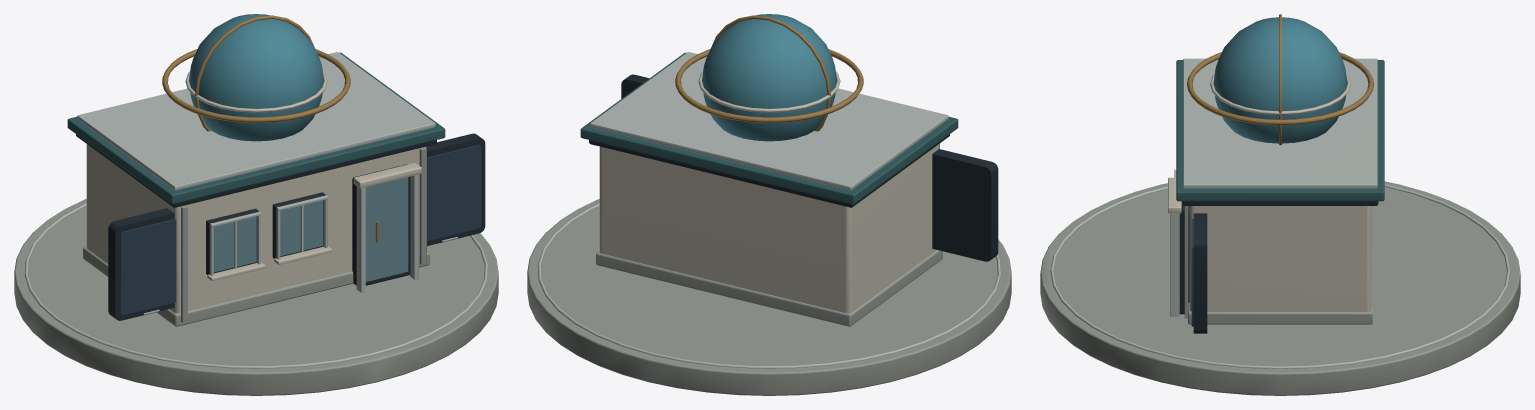
The model's file is idea-c28607db.glb.
The picture shows the model from 3 angles, left to right: view 1: azimuth 30°, elevation 25°; view 2: azimuth 150°, elevation 25°; view 3: azimuth 270°, elevation 25°; orthographic projection.
Visible parts, largest first — view 1: WE News Global; view 2: WE News Global; view 3: WE News Global.
Part boxes in pixels (bbox=[...]): WE News Global: bbox=[14, 14, 498, 395]; WE News Global: bbox=[527, 14, 1011, 395]; WE News Global: bbox=[1040, 14, 1520, 395].
Size of the model in its own units: 4.5 by 2.84 by 4.5.
